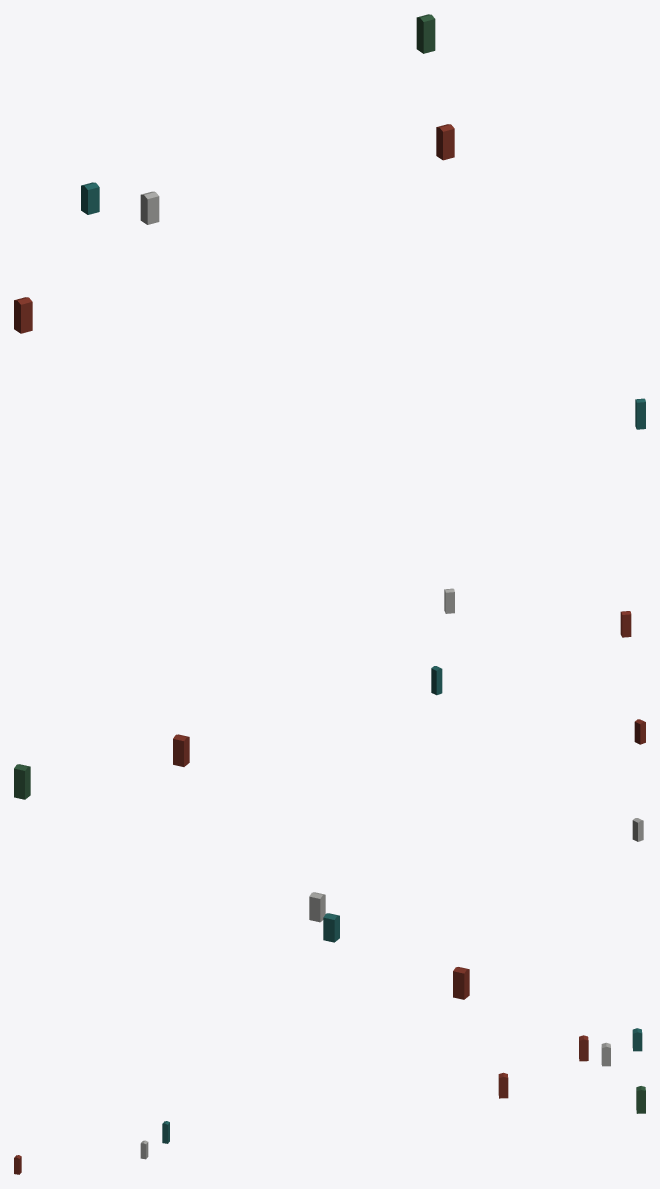
File: near-15-27354-14876.1003f443.glb
3 views of the same model, one above another, from view 1: azimuth 30°, elevation 25°; view 2: azimuth 150°, elevation 25°; view 3: azimuth 270°, elevation 25° (orthographic). The views are drawn at different scales.
Bounding box in the file's own units: 304 × 165 × 516.
